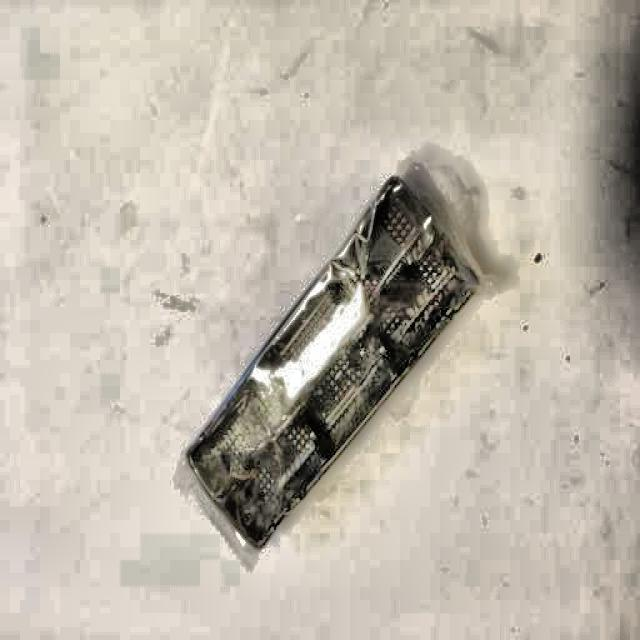plastic: (185, 162, 488, 551)
